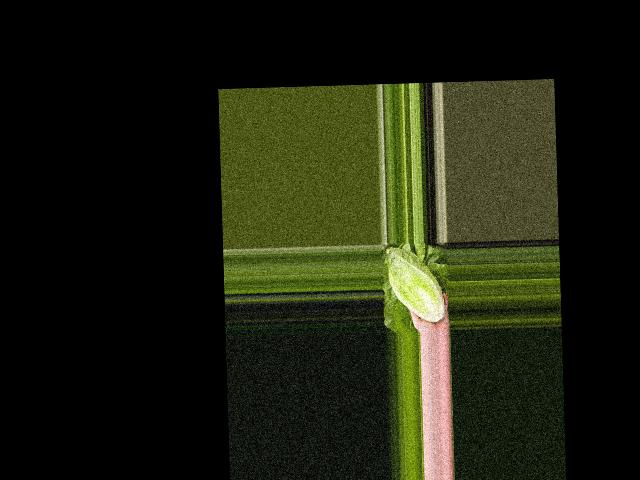lettuce: (385, 245, 447, 324)
